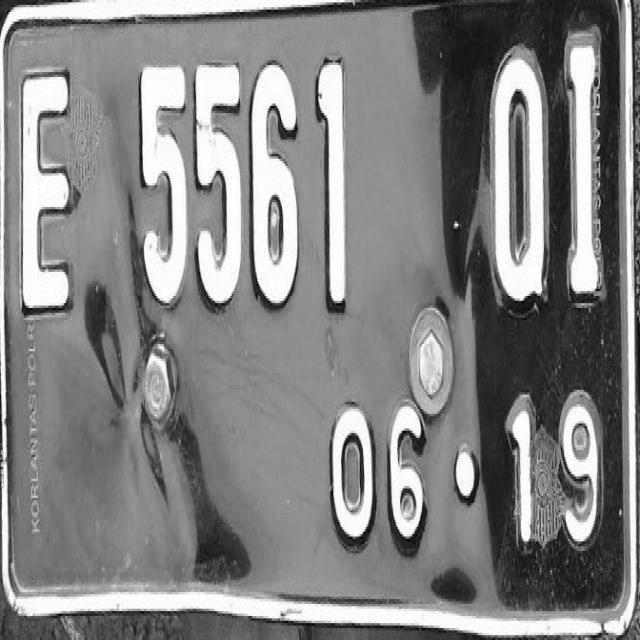1: (310, 50, 356, 318)
5: (200, 63, 248, 315), (138, 65, 186, 305)
6: (252, 59, 308, 313)
E: (18, 66, 92, 314)
I: (560, 43, 612, 305)
Q: (486, 53, 550, 323)
